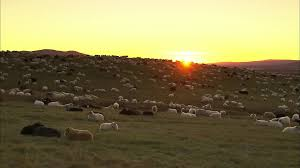sheep: (20, 120, 60, 139), (63, 126, 94, 142), (88, 110, 105, 122), (282, 124, 299, 136), (98, 121, 120, 130), (179, 108, 192, 120), (254, 117, 268, 127), (209, 111, 223, 120), (167, 106, 178, 116), (264, 110, 276, 119), (33, 98, 44, 106), (151, 104, 159, 113), (110, 86, 120, 93), (111, 102, 120, 109), (128, 86, 137, 93), (167, 91, 175, 98), (41, 83, 48, 89), (231, 98, 237, 105), (24, 91, 31, 96)
